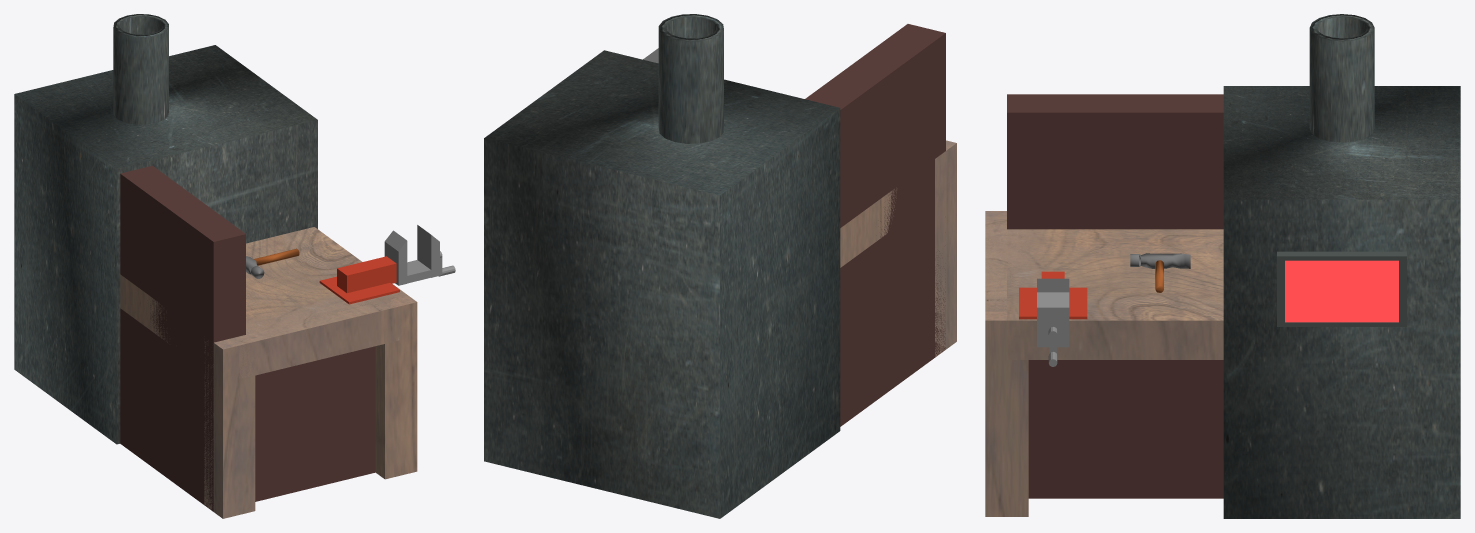
File: workbench_oven.fbx
3 views of the same model, side by side, from view 1: azimuth 30°, elevation 25°; view 2: azimuth 150°, elevation 25°; view 3: azimuth 270°, elevation 25° (orthographic). The views are drawn at different scales.
Parts seen in each view (by area): view 1: bench.002, bench.001, bench, schroef, hammer; view 2: bench.002, bench.001, bench; view 3: bench.002, bench.001, bench, bench.004, schroef, hammer.
Part boxes in pixels (x1,y1,x2,y2): bench.002: (14,14,317,444); bench.001: (120,165,375,511); bench: (120,227,417,518); schroef: (319,225,455,304); hammer: (246,248,299,278); bench.002: (484,14,840,518); bench.001: (805,24,945,426); bench: (840,140,956,356); bench.002: (1223,14,1460,518); bench.001: (1007,94,1223,498); bench: (985,211,1223,516); bench.004: (1277,251,1406,326); schroef: (1019,271,1087,366); hammer: (1130,253,1190,292).
Size of the model in its own units: 163 by 214 by 220.
